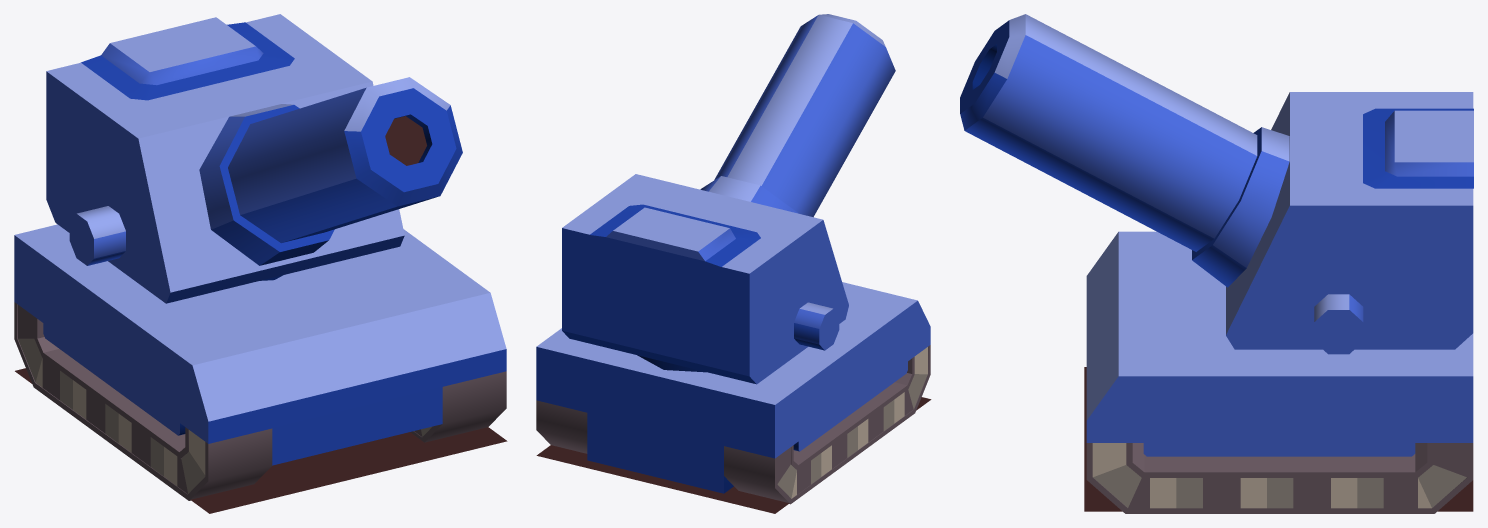
Rendered from ArtillertyMesh.CobaltIce.glb.
The picture shows the model from 3 angles, left to right: view 1: azimuth 30°, elevation 25°; view 2: azimuth 150°, elevation 25°; view 3: azimuth 270°, elevation 25°; orthographic projection. The views are drawn at different scales.
Parts seen in each view (by area): view 1: ArtillertyMesh.CobaltIce; view 2: ArtillertyMesh.CobaltIce; view 3: ArtillertyMesh.CobaltIce.
Part boxes in pixels (x1,y1,x2,y2): ArtillertyMesh.CobaltIce: (14,14,507,513); ArtillertyMesh.CobaltIce: (536,14,931,513); ArtillertyMesh.CobaltIce: (960,14,1473,513).
Size of the model in its own units: 1.4 by 1.88 by 2.1.
1 material, 1 textured.
